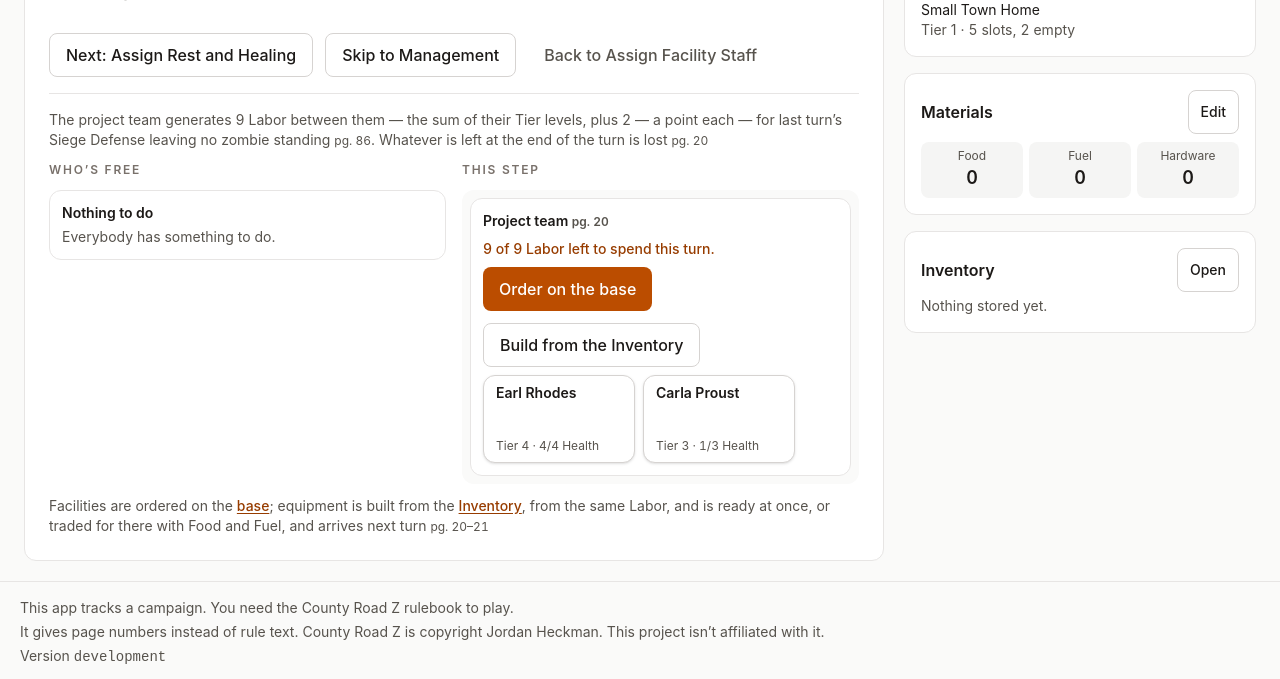
Scenario: the Planning Phase steps › names the point each a clean siege last turn adds
The width and height of the screenshot is (1280, 679).
(page scrolled)
Expected: the text "generates" shows "generates 9 Labor", [49,110,859,150]
Expected: the text "generates" shows "plus 2 — a point each — for last turn’s Siege Defense", [49,110,859,150]
Click the button "Carla Proust Tier 3 · 1/3 Health".
click(719, 418)  # box [643,374,795,462]
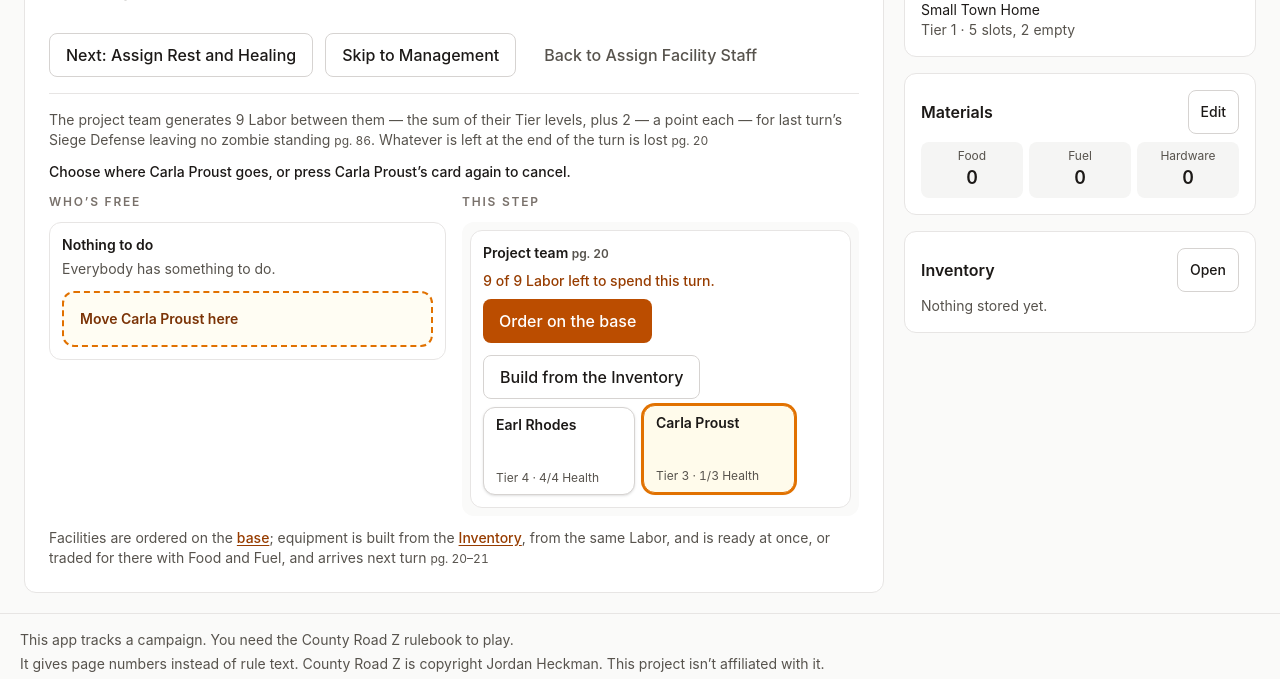
Click the button "Move Carla Proust here".
click(100, 318)  # box [68,296,427,340]
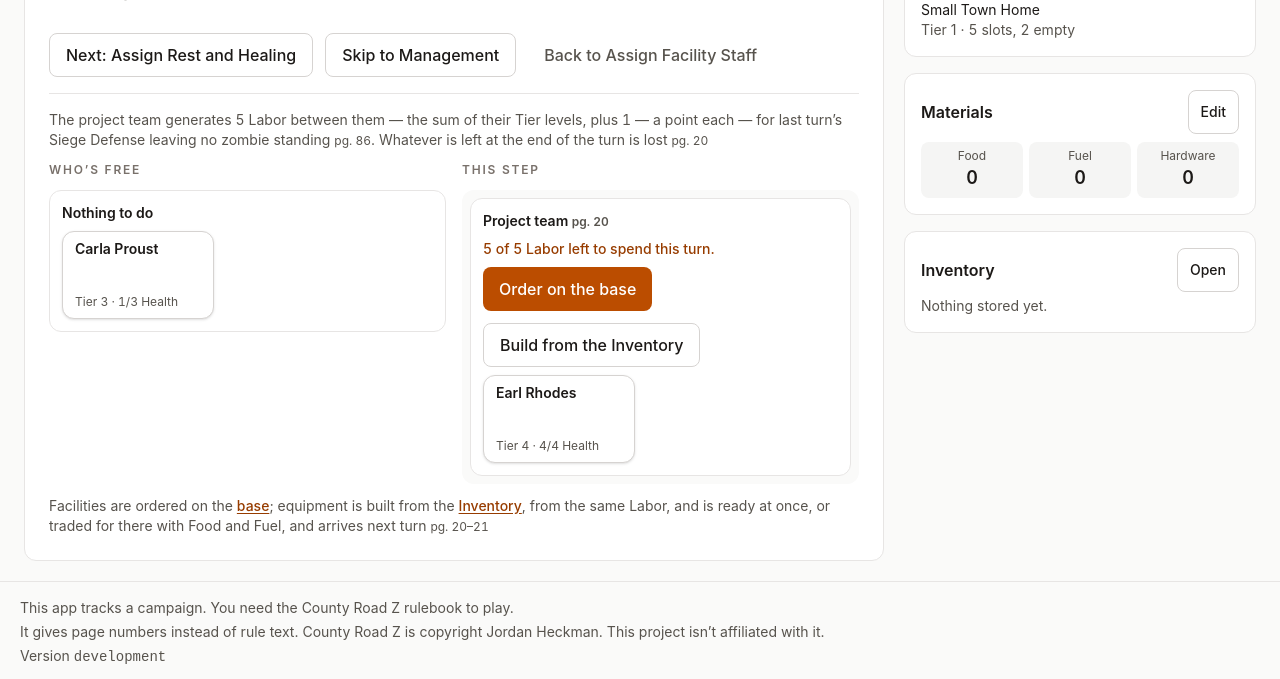
Result: the text "generates" shows "generates 5 Labor" at [49,110,859,150]
